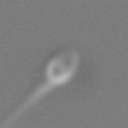normal: (1, 83, 50, 128)
